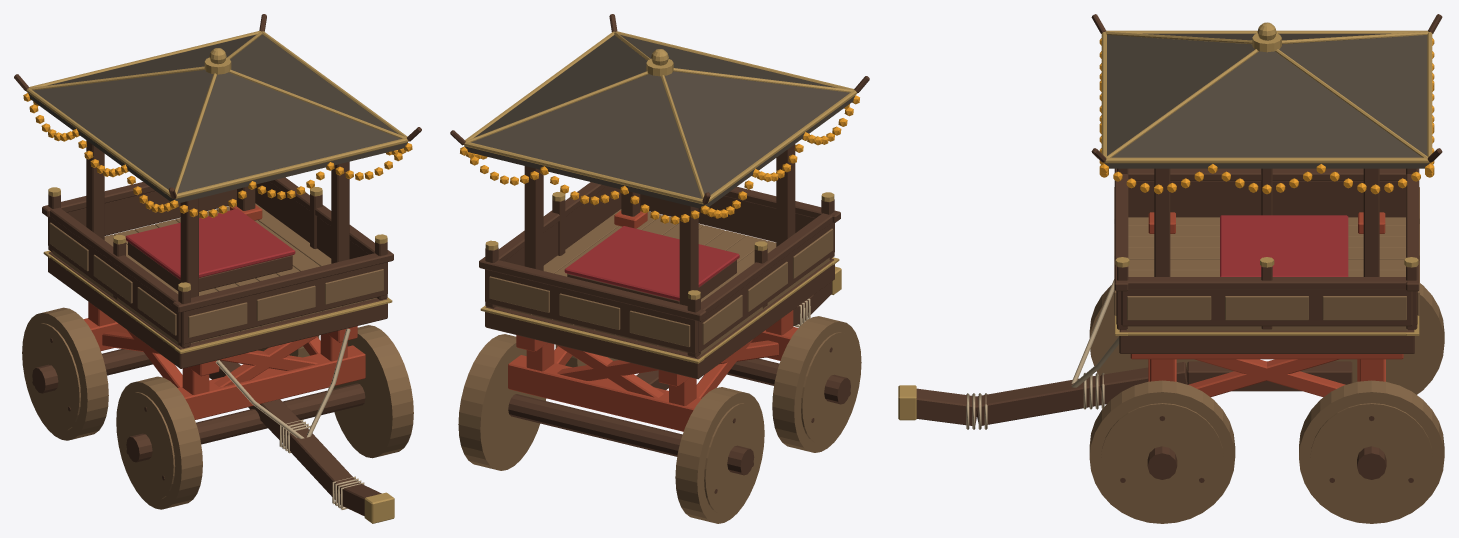
File: kumari_rath.glb
The picture shows the model from 3 angles, left to right: view 1: azimuth 30°, elevation 25°; view 2: azimuth 150°, elevation 25°; view 3: azimuth 270°, elevation 25°; orthographic projection. The views are drawn at different scales.
Parts seen in each view (by area): view 1: RoofRoot_Mesh, PlatformRoot_Mesh, ChassisRoot_Mesh, PavilionRoot_Mesh, Wheel_RL_Mesh, Wheel_FL_Mesh, Wheel_FR_Mesh, DrawbeamRoot_Mesh, GarlandRoot_Mesh; view 2: RoofRoot_Mesh, PlatformRoot_Mesh, ChassisRoot_Mesh, PavilionRoot_Mesh, Wheel_FL_Mesh, Wheel_RL_Mesh, Wheel_RR_Mesh, GarlandRoot_Mesh, DrawbeamRoot_Mesh; view 3: RoofRoot_Mesh, PlatformRoot_Mesh, Wheel_FR_Mesh, Wheel_RR_Mesh, PavilionRoot_Mesh, DrawbeamRoot_Mesh, ChassisRoot_Mesh, Wheel_RL_Mesh, GarlandRoot_Mesh, Wheel_FL_Mesh.
Part boxes in pixels (box(x1,y1,x2,y2)): RoofRoot_Mesh: box(14, 14, 421, 203); PlatformRoot_Mesh: box(42, 177, 393, 368); ChassisRoot_Mesh: box(83, 301, 365, 444); PavilionRoot_Mesh: box(86, 140, 349, 297); Wheel_RL_Mesh: box(22, 307, 108, 440); Wheel_FL_Mesh: box(116, 376, 202, 509); Wheel_FR_Mesh: box(333, 325, 413, 458); DrawbeamRoot_Mesh: box(209, 328, 394, 523); GarlandRoot_Mesh: box(23, 93, 412, 218); RoofRoot_Mesh: box(450, 14, 869, 208); PlatformRoot_Mesh: box(479, 182, 840, 379); ChassisRoot_Mesh: box(508, 310, 797, 456); PavilionRoot_Mesh: box(524, 144, 795, 305); Wheel_FL_Mesh: box(772, 316, 861, 452); Wheel_RL_Mesh: box(675, 387, 764, 523); Wheel_RR_Mesh: box(458, 334, 546, 470); GarlandRoot_Mesh: box(460, 95, 859, 224); DrawbeamRoot_Mesh: box(636, 266, 841, 389); RoofRoot_Mesh: box(1091, 14, 1442, 168); PlatformRoot_Mesh: box(1114, 168, 1419, 353); Wheel_FR_Mesh: box(1089, 380, 1235, 523); Wheel_RR_Mesh: box(1299, 380, 1444, 523); PavilionRoot_Mesh: box(1148, 168, 1385, 276); DrawbeamRoot_Mesh: box(898, 279, 1352, 429); ChassisRoot_Mesh: box(1130, 354, 1403, 397); Wheel_RL_Mesh: box(1334, 283, 1444, 394); GarlandRoot_Mesh: box(1099, 38, 1434, 194); Wheel_FL_Mesh: box(1089, 285, 1199, 375).
Size of the model in its own units: 2.98 by 4.24 by 4.8.
